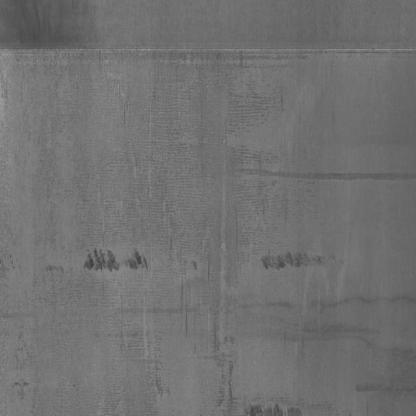rolled_pit: (259, 242, 337, 281), (80, 245, 148, 273), (239, 391, 312, 416)
welding_line: (0, 32, 416, 66)
